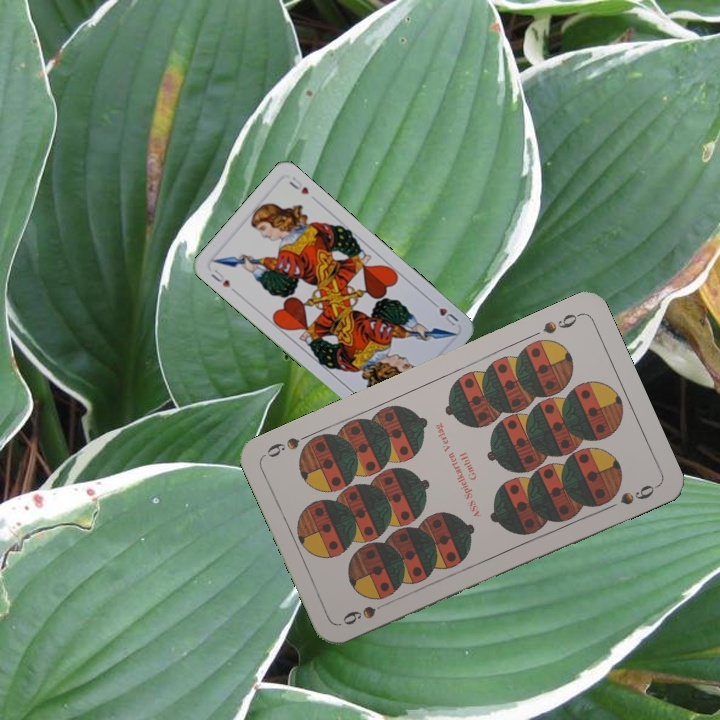HU: (427, 297, 461, 329), (207, 265, 239, 295)
S9: (338, 596, 394, 628), (538, 309, 583, 337)
